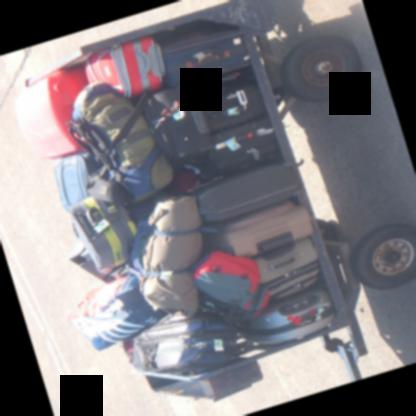backpack: (68, 80, 176, 204), (192, 249, 270, 321), (89, 286, 169, 349)
handbag: (77, 274, 125, 317)
suitcase: (0, 10, 329, 368), (197, 197, 314, 256), (234, 281, 337, 344), (150, 25, 252, 88), (132, 313, 240, 371), (196, 160, 302, 219), (143, 81, 215, 166), (70, 194, 139, 272), (85, 34, 166, 99), (196, 117, 277, 178), (45, 57, 91, 149), (196, 79, 269, 131), (55, 149, 103, 213), (252, 237, 316, 283)
